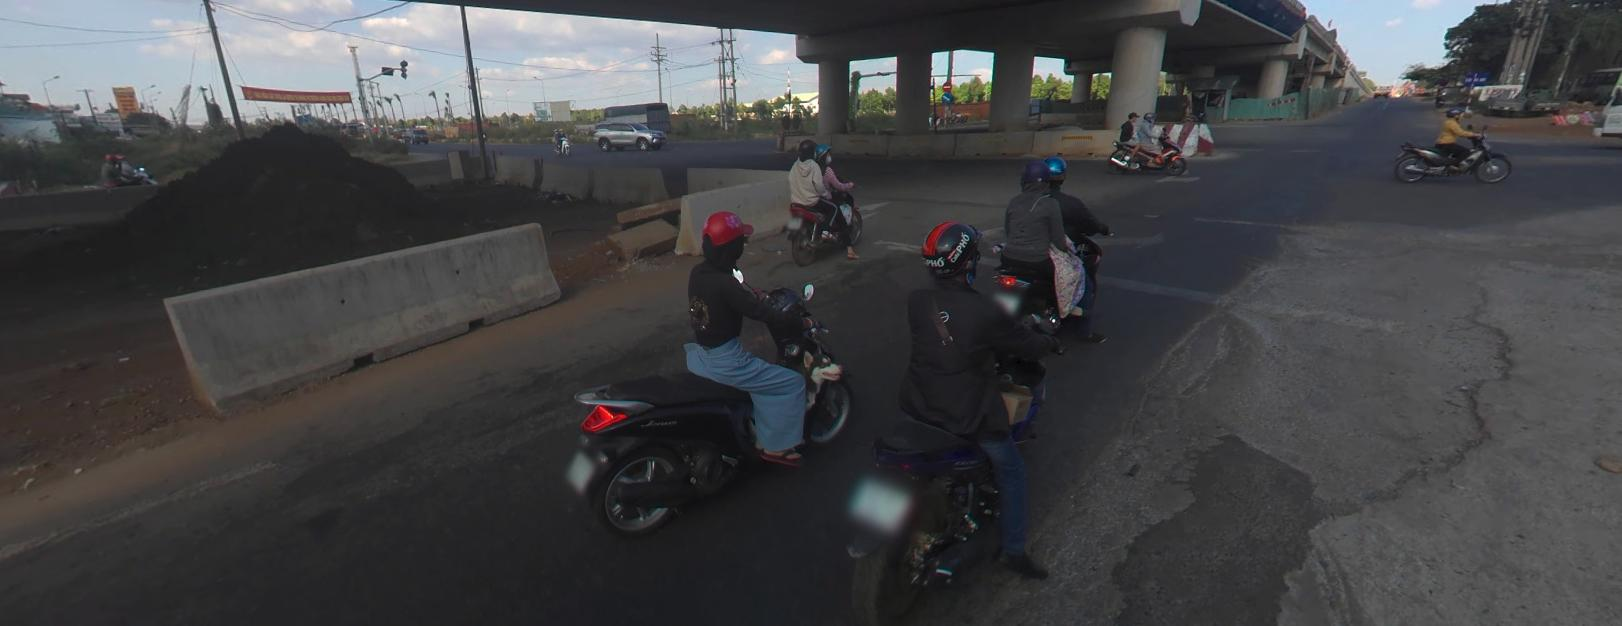Cam nguoc chieu: (942, 81, 952, 90)
Hieu lenh: (942, 92, 952, 102)
